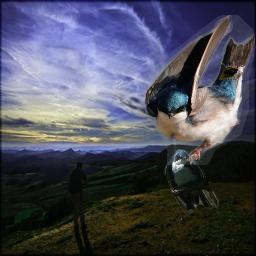Cuckoo: (219, 54, 246, 81)
Swallow: (144, 15, 256, 165), (164, 149, 220, 216)
